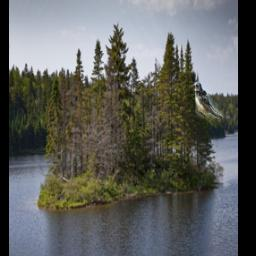Swallow: (194, 83, 229, 120)
